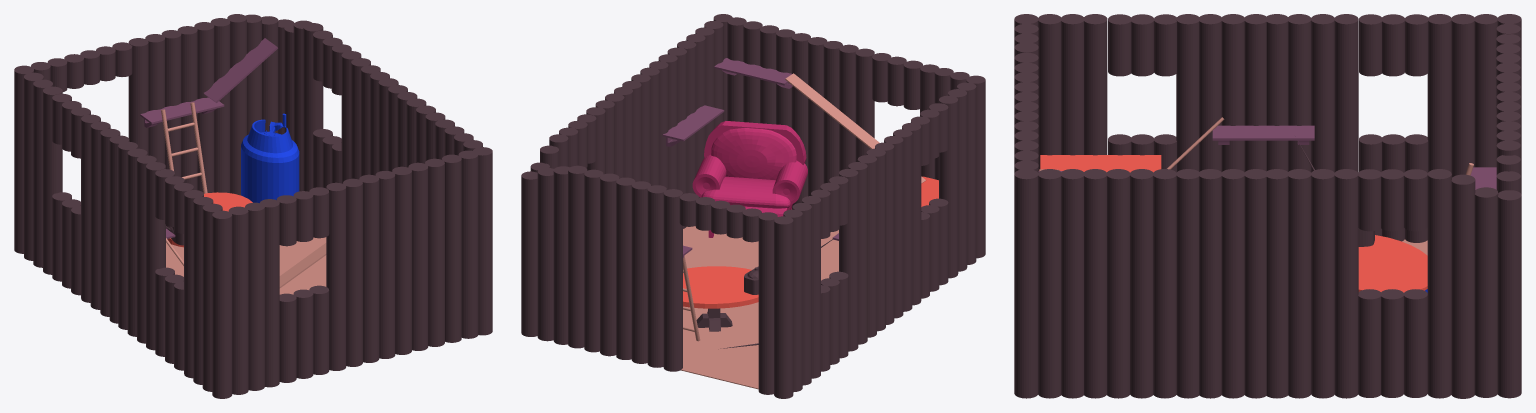
The model's file is OneRoomCabin.fbx.
3 renders of one model, left to right at view 1: azimuth 30°, elevation 25°; view 2: azimuth 150°, elevation 25°; view 3: azimuth 270°, elevation 25°, orthographic. The views are drawn at different scales.
Parts seen in each view (by area): view 1: Cylinder.090, Cylinder, Cylinder.067, Cylinder.059, Cylinder.060, Cylinder.073, Cylinder.061, Cylinder.071, Cylinder.068, Cylinder.062, Cylinder.072, Cylinder.070 (+77 smaller); view 2: Chair, Cabin, Cylinder.021, Cylinder.050, Cylinder.046, Cylinder.044, Cylinder.049, Cylinder.048, Cylinder.056, Cylinder.045, Cylinder.058, Cylinder.047 (+75 smaller); view 3: Cylinder.043, Cylinder.029, Cylinder.025, Cylinder.036, Cylinder.042, Cylinder.038, Cylinder.037, Cylinder.034, Cylinder.031, Cylinder.030, Cylinder.024, Cylinder.035 (+44 smaller).
Part boxes in pixels (x1,y1,x2,y2): Cylinder.090: (241, 113, 299, 202); Cylinder: (212, 210, 232, 398); Cylinder.067: (326, 182, 346, 370); Cylinder.059: (458, 150, 478, 338); Cylinder.060: (442, 154, 461, 342); Cylinder.073: (425, 158, 444, 346); Cylinder.061: (228, 206, 248, 394); Cylinder.071: (392, 166, 411, 354); Cylinder.068: (343, 178, 362, 366); Cylinder.062: (245, 202, 264, 390); Cylinder.072: (408, 162, 428, 350); Cylinder.070: (375, 171, 395, 358); Chair: (692, 121, 807, 237); Cabin: (681, 226, 838, 389); Cylinder.021: (774, 216, 793, 398); Cylinder.050: (663, 189, 682, 371); Cylinder.046: (600, 173, 619, 356); Cylinder.044: (568, 165, 587, 348); Cylinder.049: (647, 185, 666, 367); Cylinder.048: (631, 181, 650, 363); Cylinder.056: (758, 212, 777, 394); Cylinder.045: (584, 169, 603, 352); Cylinder.058: (537, 168, 553, 341); Cylinder.047: (616, 177, 635, 359); Cylinder.043: (1014, 169, 1038, 398); Cylinder.029: (1334, 169, 1358, 398); Cylinder.025: (1427, 169, 1451, 398); Cylinder.036: (1176, 169, 1200, 398); Cylinder.042: (1038, 169, 1061, 398); Cylinder.038: (1130, 169, 1153, 398); Cylinder.037: (1153, 169, 1176, 398); Cylinder.034: (1221, 169, 1244, 398); Cylinder.031: (1287, 169, 1311, 398); Cylinder.030: (1311, 169, 1334, 398); Cylinder.024: (1451, 174, 1475, 398); Cylinder.035: (1198, 169, 1222, 398).
Bounding box in the file's own units: 83842 × 64614 × 40821.
